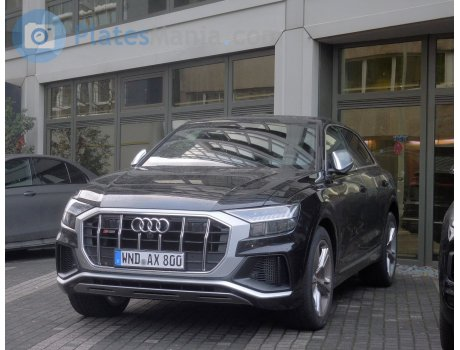License Plates: (118, 248, 181, 265)
